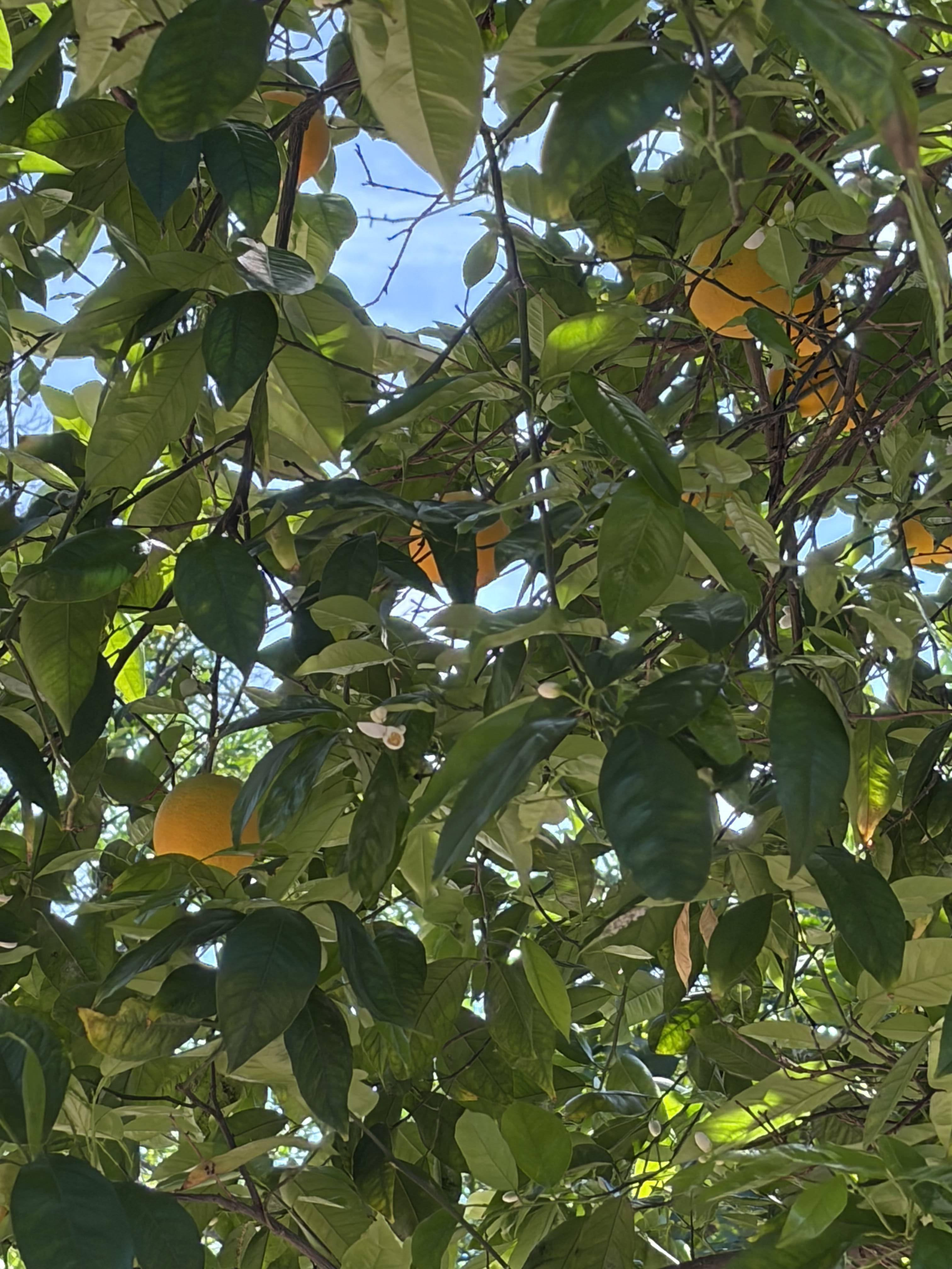orange: (684, 225, 794, 338), (153, 772, 261, 876), (409, 492, 508, 588), (261, 89, 331, 186), (765, 349, 839, 418), (779, 277, 838, 357), (828, 382, 882, 432), (902, 515, 952, 565), (681, 492, 735, 530)
